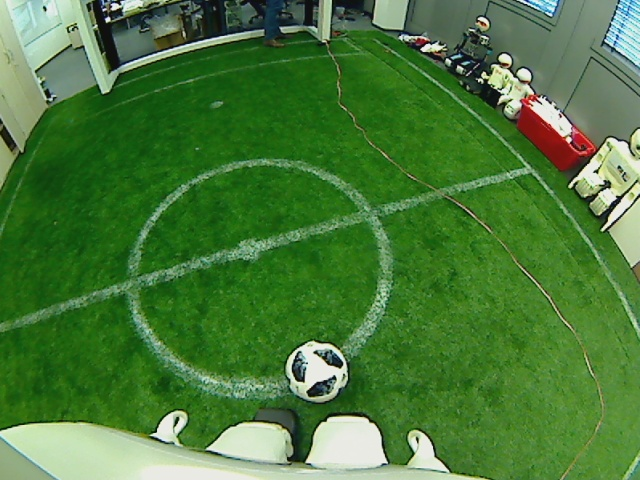ball: (283, 340, 351, 403)
